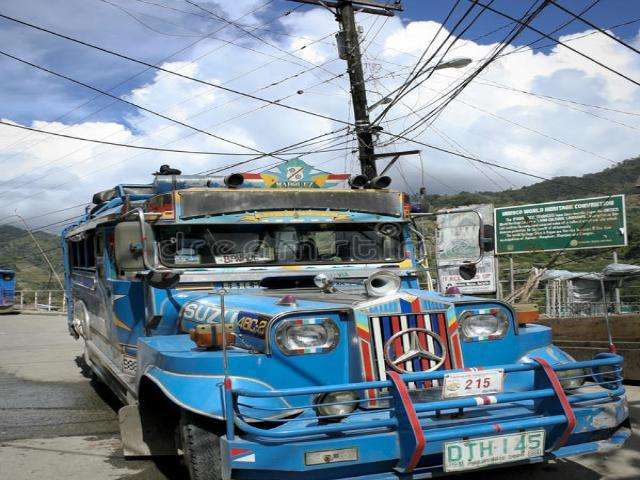jeepney: (18, 159, 640, 480)
